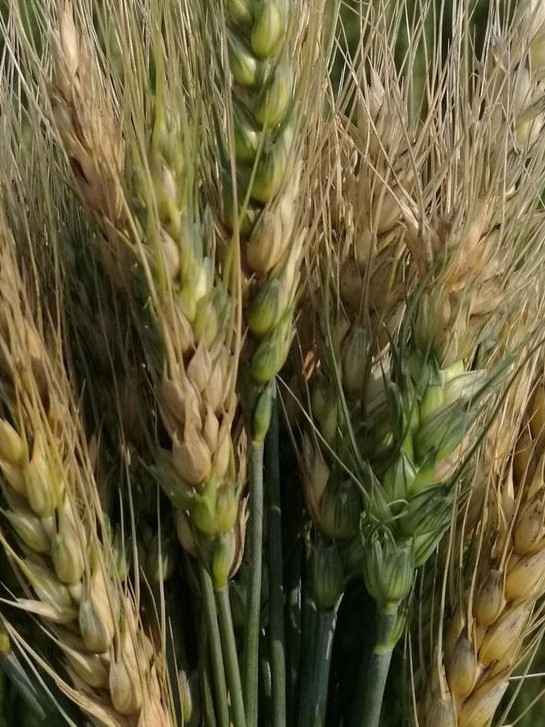Wheat scab: (369, 236, 528, 627), (1, 404, 166, 727), (211, 8, 312, 393)
